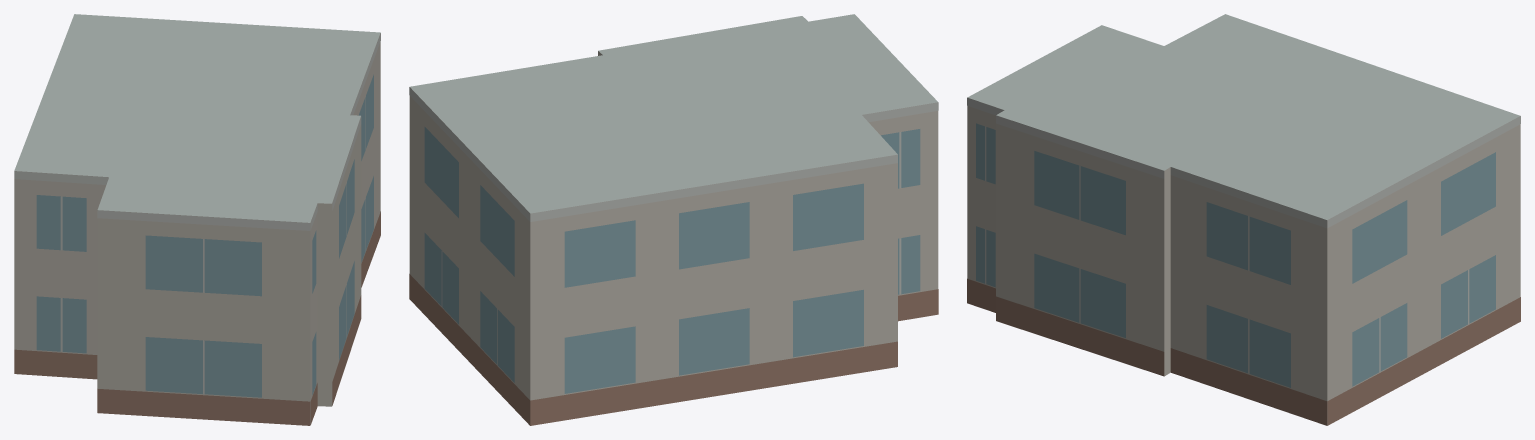
Rendered from survey-upis-32659959.glb.
The picture shows the model from 3 angles, left to right: view 1: azimuth 30°, elevation 25°; view 2: azimuth 150°, elevation 25°; view 3: azimuth 270°, elevation 25°; orthographic projection. The views are drawn at different scales.
Visible parts, largest first — view 1: survey-upis-32659959.tmp; view 2: survey-upis-32659959.tmp; view 3: survey-upis-32659959.tmp.
Part boxes in pixels (x1,y1,x2,y2): survey-upis-32659959.tmp: (14, 14, 380, 425); survey-upis-32659959.tmp: (409, 14, 938, 425); survey-upis-32659959.tmp: (967, 14, 1520, 425).
Bounding box in the file's own units: 13.12 × 6.1 × 14.88.
